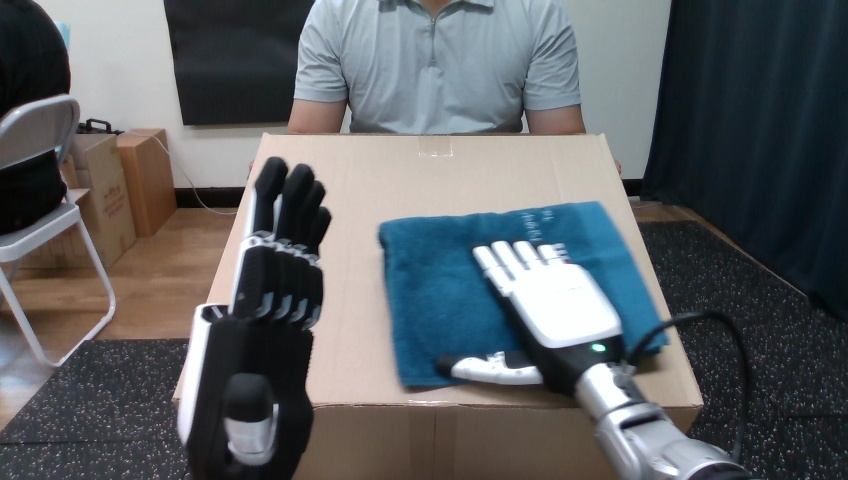left robot hand: (437, 240, 750, 479), (178, 157, 330, 478), (631, 317, 743, 457)
